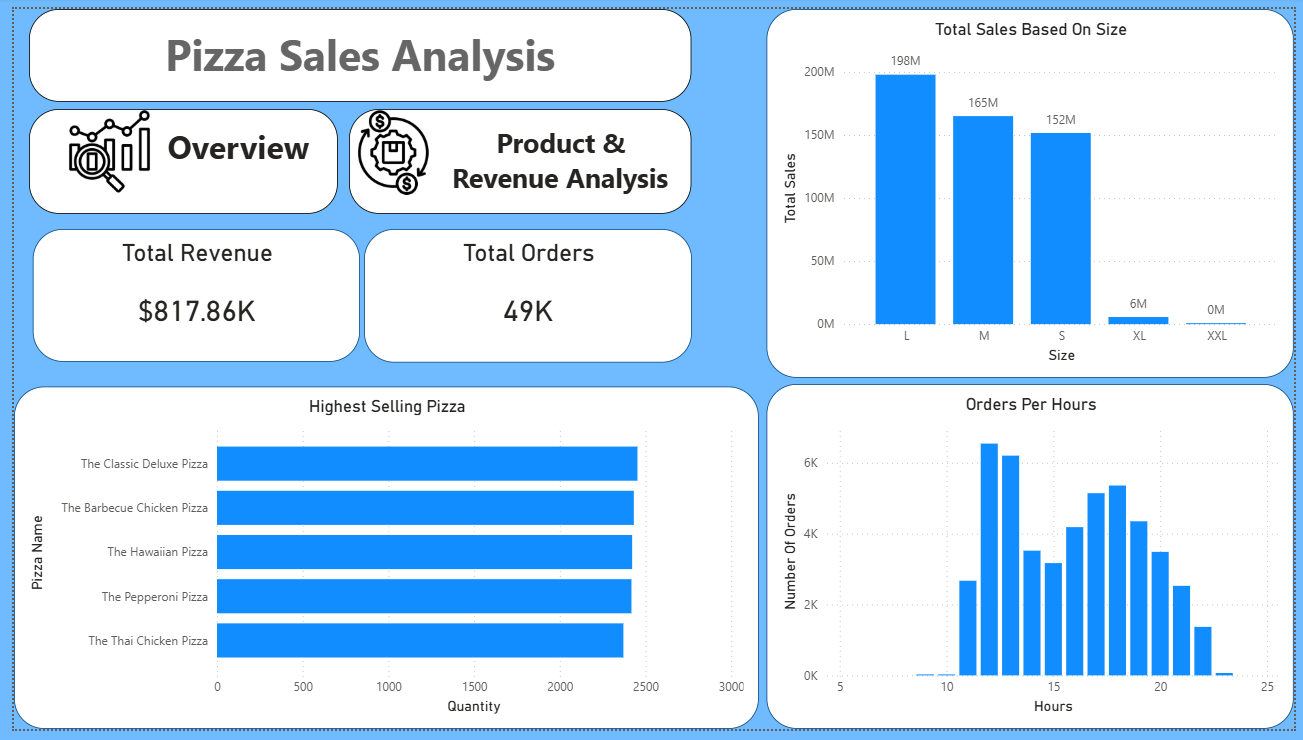

The dashboard page shown, as its layout file describes it:
{"tool":"powerbi","page":{"name":"Overview","canvas":[1280,720],"ordinal":0},"visuals":[{"type":"columnChart","title":"Total Sales Based On Size","fields":{"Category":["pizza_sales vw_sales_base.size"],"Y":["Sum(pizza_sales vw_sales_base.order_id)"]},"box":[752.5,0,527.5,368.8],"z":0},{"type":"barChart","title":"Highest Selling Pizza","fields":{"Category":["pizza_sales vw_sales_base.pizza_name"],"Y":["Sum(pizza_sales vw_sales_base.quantity)"]},"box":[0,377.5,745,342.5],"z":1000},{"type":"columnChart","title":"Orders Per Hours","fields":{"Category":["pizza_sales vw_sales_base.Order_Hour"],"Y":["CountNonNull(pizza_sales vw_sales_base.order_id)"]},"box":[752.5,375,527.5,345],"z":2000},{"type":"card","title":"Total Orders","fields":{"Values":["pizza_sales vw_sales_base.Total_orders"]},"box":[349.7,220.1,327.7,133.3],"z":3000},{"type":"card","title":"Total Revenue","fields":{"Values":["pizza_sales vw_sales_base.Total_Revenue"]},"box":[18.8,220,327.5,132.5],"z":4000},{"type":"textbox","box":[15,0,662.5,92.5],"z":5000},{"type":"textbox","box":[15,100,308.8,105],"z":6000},{"type":"textbox","box":[335,100,342.5,105],"z":7000},{"type":"image","box":[323.8,100,111.2,87.5],"z":8000},{"type":"image","box":[18.8,100,153.8,85],"z":9000},{"type":"actionButton","box":[15.9,100.3,306.9,105.2],"z":10000},{"type":"actionButton","box":[335.1,100.3,342.4,105.2],"z":11000}]}

Visuals, with their boxes in screenshot pixels (x1, y1, x2, y2), scaled from the page's 1280x720 canvas onto the 1303x740 screenshot:
"Total Sales Based On Size" columnChart: (766,0,1302,379)
"Highest Selling Pizza" barChart: (0,388,758,739)
"Orders Per Hours" columnChart: (766,385,1302,739)
"Total Orders" card: (356,226,690,363)
"Total Revenue" card: (19,226,353,362)
textbox: (15,0,690,95)
textbox: (15,103,330,211)
textbox: (341,103,690,211)
image: (330,103,443,193)
image: (19,103,176,190)
actionButton: (16,103,329,211)
actionButton: (341,103,690,211)
